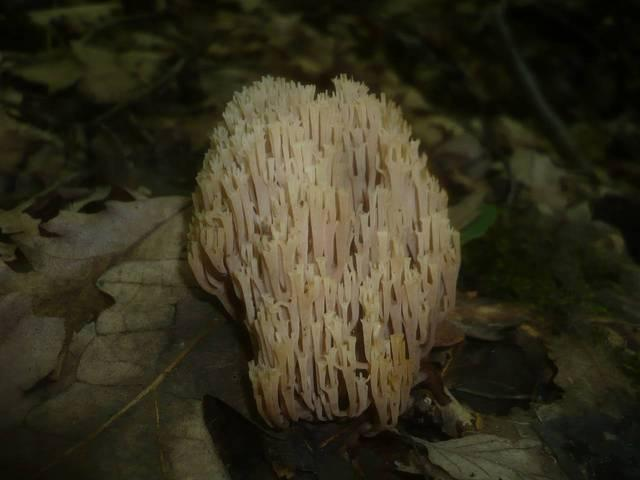Edible Mushroom: (185, 72, 462, 432)
